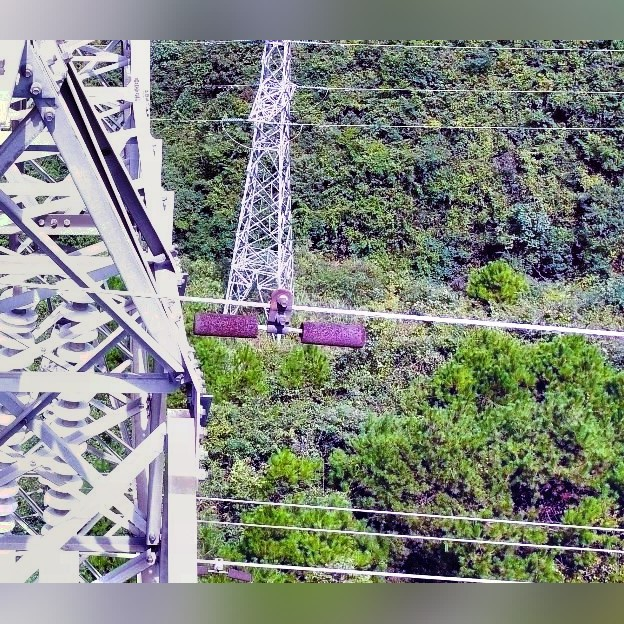Shockproof hammer: (190, 286, 377, 356)
